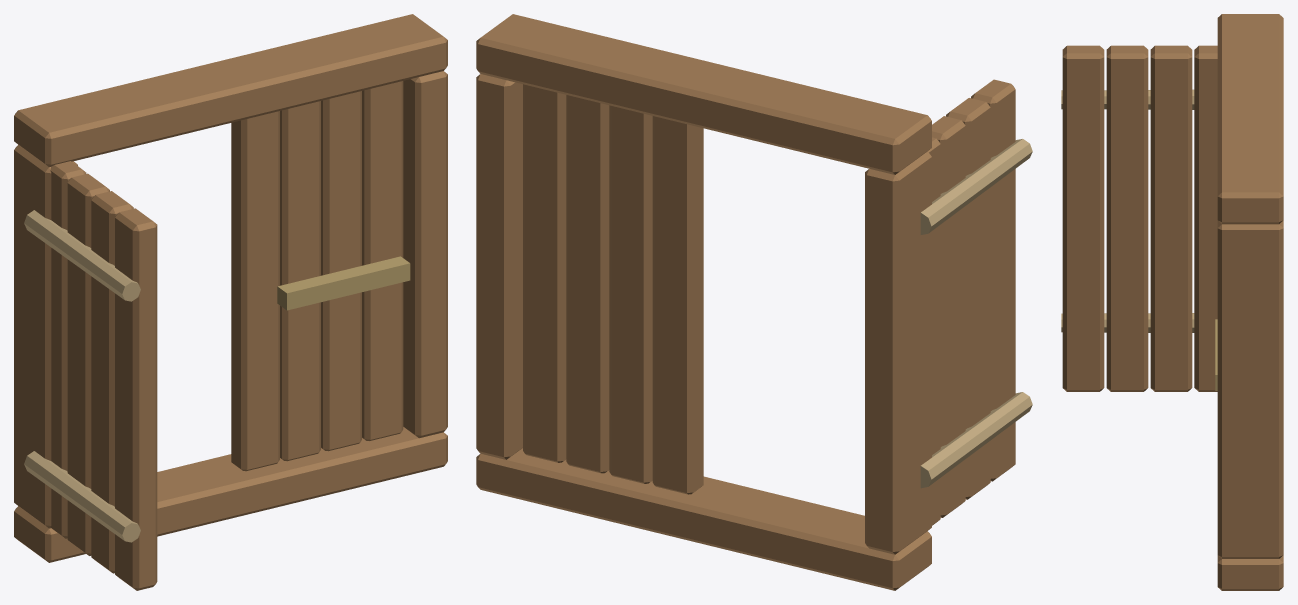
3 renders of one model, left to right at view 1: azimuth 30°, elevation 25°; view 2: azimuth 150°, elevation 25°; view 3: azimuth 270°, elevation 25°, orthographic. The views are drawn at different scales.
Parts seen in each view (by area): view 1: CE-076 Hinged timber storm window shutter batched; view 2: CE-076 Hinged timber storm window shutter batched; view 3: CE-076 Hinged timber storm window shutter batched.
Part boxes in pixels (<box>): CE-076 Hinged timber storm window shutter batched: <box>14,14,447,590</box>; CE-076 Hinged timber storm window shutter batched: <box>476,14,1032,590</box>; CE-076 Hinged timber storm window shutter batched: <box>1061,14,1283,590</box>.
Bounding box in the file's own units: 1 × 1 × 0.505.
